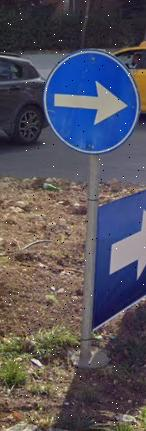turnright: (51, 52, 138, 152)
